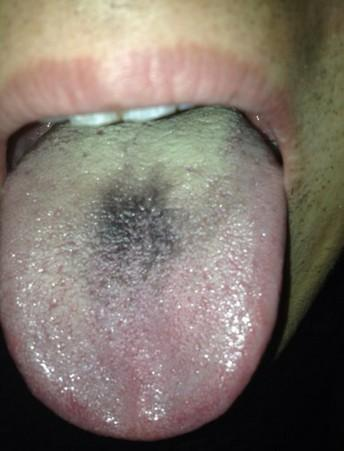heitaishe: (1, 107, 287, 439)
huangtaishe: (1, 107, 287, 439)
